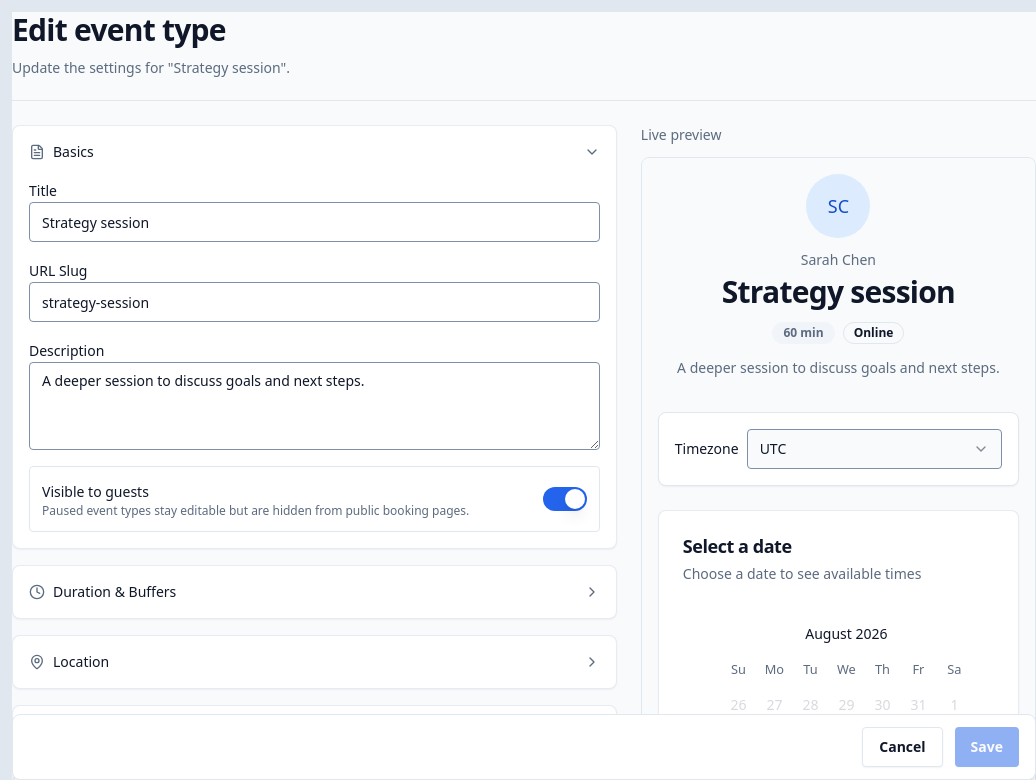
EditEventTypePage editor › clears edit dirty state when values return to their saved semantics
Replace the text in the field labelled "Title" with "Strategy workshop" at (314, 222), box [29, 202, 600, 242]
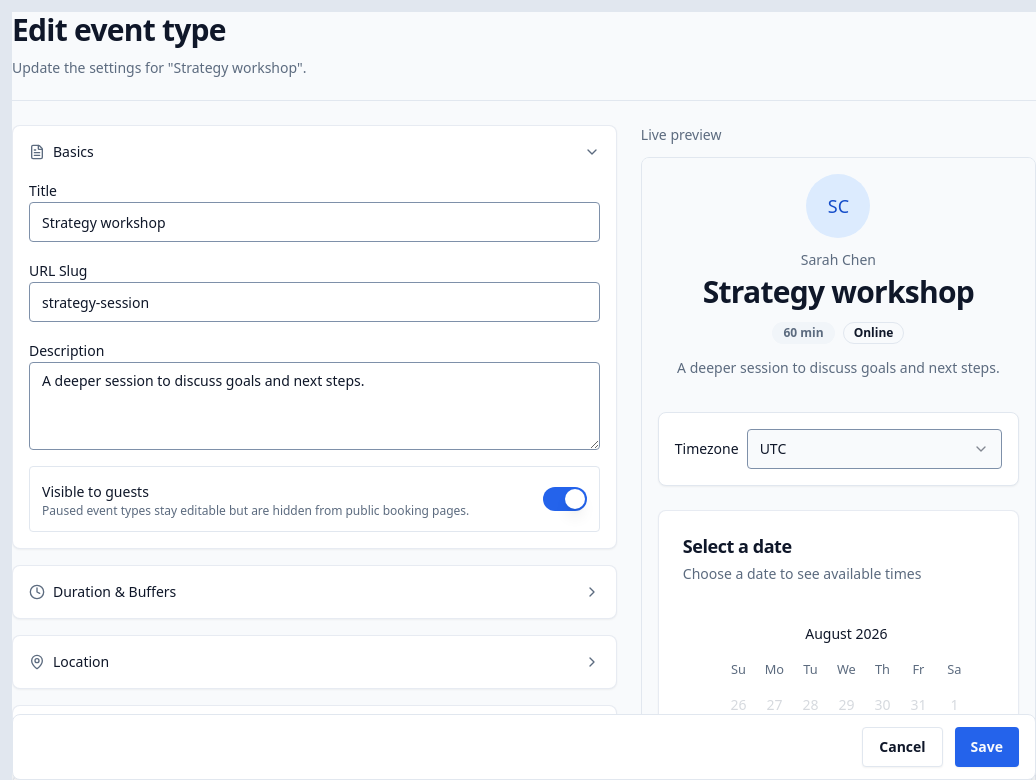
Expected: the button "Save" is enabled, [955, 727, 1019, 767]
Replace the text in the field labelled "Title" with "  Strategy session  " at (314, 222), box [29, 202, 600, 242]
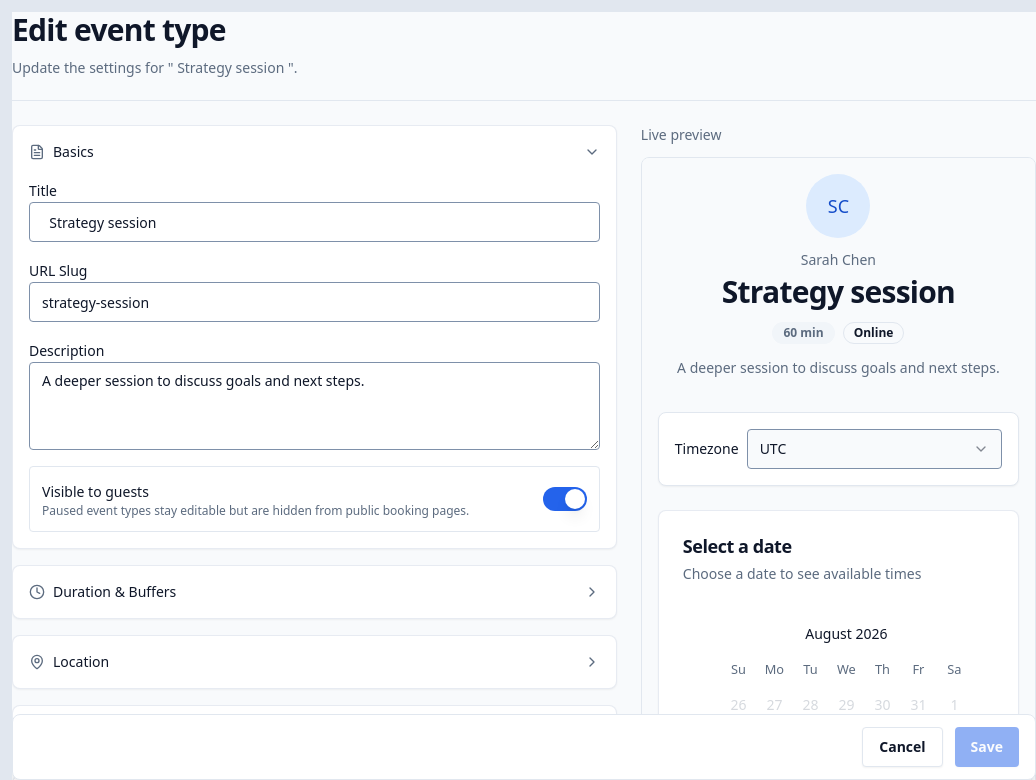
Expected: the button "Save" is disabled, [955, 727, 1019, 767]
